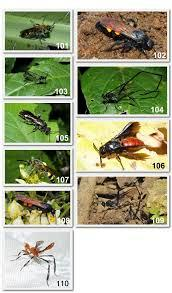Helopeltis-insect: (94, 19, 157, 55), (93, 126, 143, 168), (93, 182, 150, 217), (18, 108, 53, 143), (103, 78, 137, 113), (13, 195, 61, 218), (21, 241, 53, 269), (20, 20, 54, 44), (20, 64, 51, 89), (24, 158, 58, 180)
